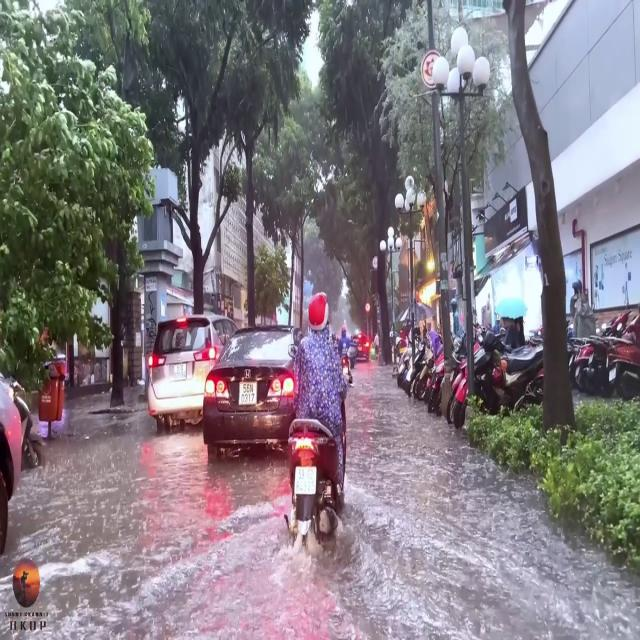bien_trang: (296, 468, 318, 499), (238, 382, 259, 406), (174, 361, 188, 383)
